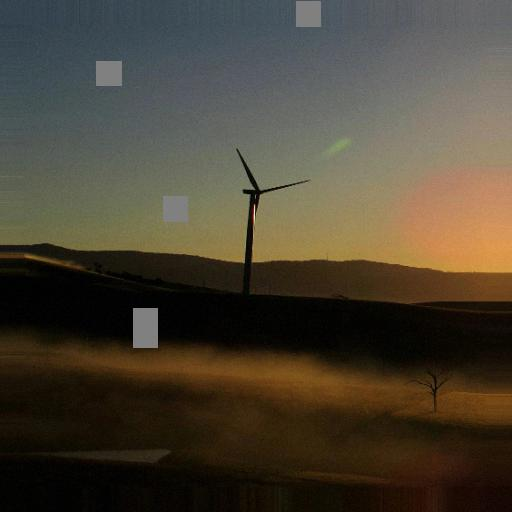wind turbine: (229, 143, 312, 296)
